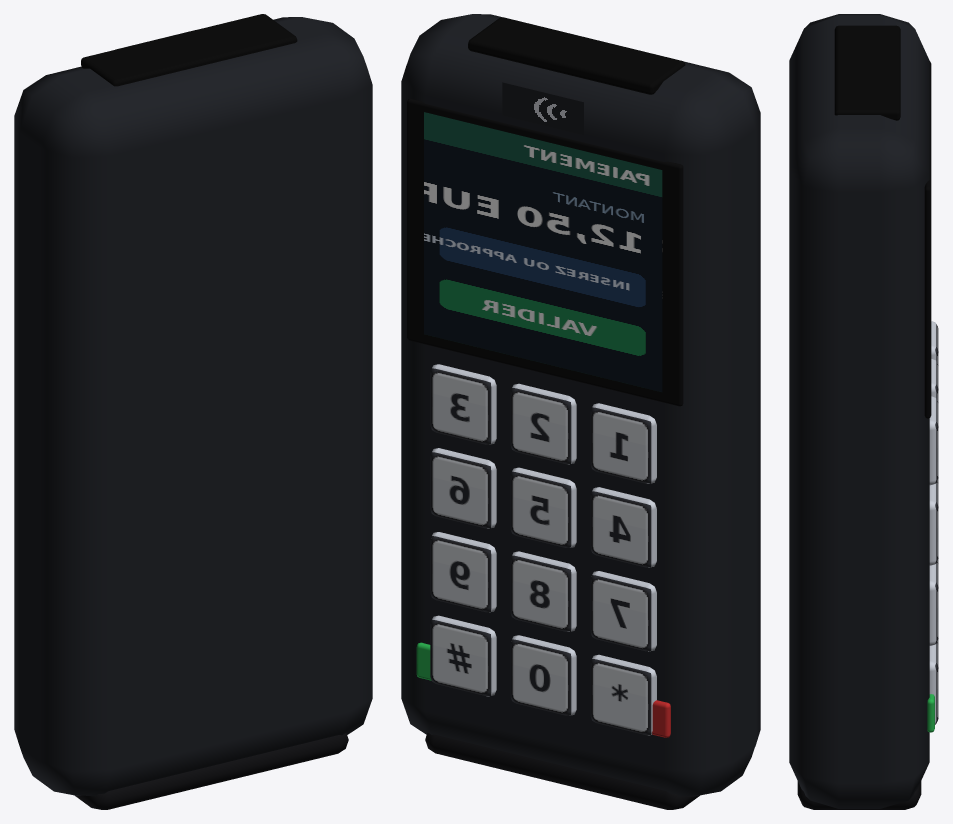
File: BankTerminal.obj
3 renders of one model, left to right at view 1: azimuth 30°, elevation 25°; view 2: azimuth 150°, elevation 25°; view 3: azimuth 270°, elevation 25°, orthographic. The views are drawn at different scales.
Size of the model in its own units: 0.088 by 0.184 by 0.0362.
